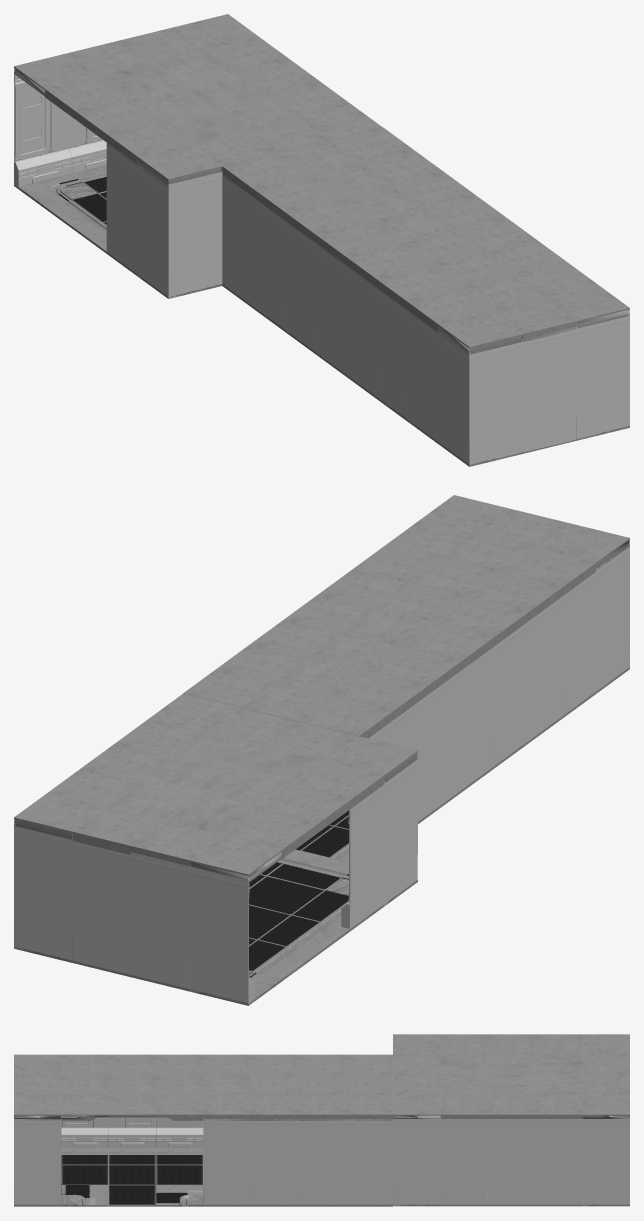
The model's file is Pasillo3Opti.fbx.
3 views of the same model, one above another, from view 1: azimuth 30°, elevation 25°; view 2: azimuth 150°, elevation 25°; view 3: azimuth 270°, elevation 25° (orthographic). The views are drawn at different scales.
Parts seen in each view (by area): view 1: SM_CeilingCorner_OUT__5_, SM_Wall_AA__3_, SM_Floor_Center__4_; view 2: SM_CeilingCorner_OUT__5_, SM_Wall_AA__3_, SM_Floor_Center__4_; view 3: SM_CeilingCorner_OUT__5_, SM_Wall_AA__3_, SM_Floor_Center__4_.
Boxes of the visible parts, x1=… form: SM_CeilingCorner_OUT__5_: x1=14, y1=14, x2=629, y2=354; SM_Wall_AA__3_: x1=14, y1=72, x2=629, y2=464; SM_Floor_Center__4_: x1=14, y1=166, x2=629, y2=466; SM_CeilingCorner_OUT__5_: x1=14, y1=495, x2=629, y2=882; SM_Wall_AA__3_: x1=14, y1=544, x2=629, y2=1003; SM_Floor_Center__4_: x1=14, y1=667, x2=629, y2=1005; SM_CeilingCorner_OUT__5_: x1=14, y1=1034, x2=629, y2=1120; SM_Wall_AA__3_: x1=14, y1=1117, x2=629, y2=1204; SM_Floor_Center__4_: x1=14, y1=1147, x2=629, y2=1206.
Size of the model in its own units: 80.1 by 42.8 by 260.
